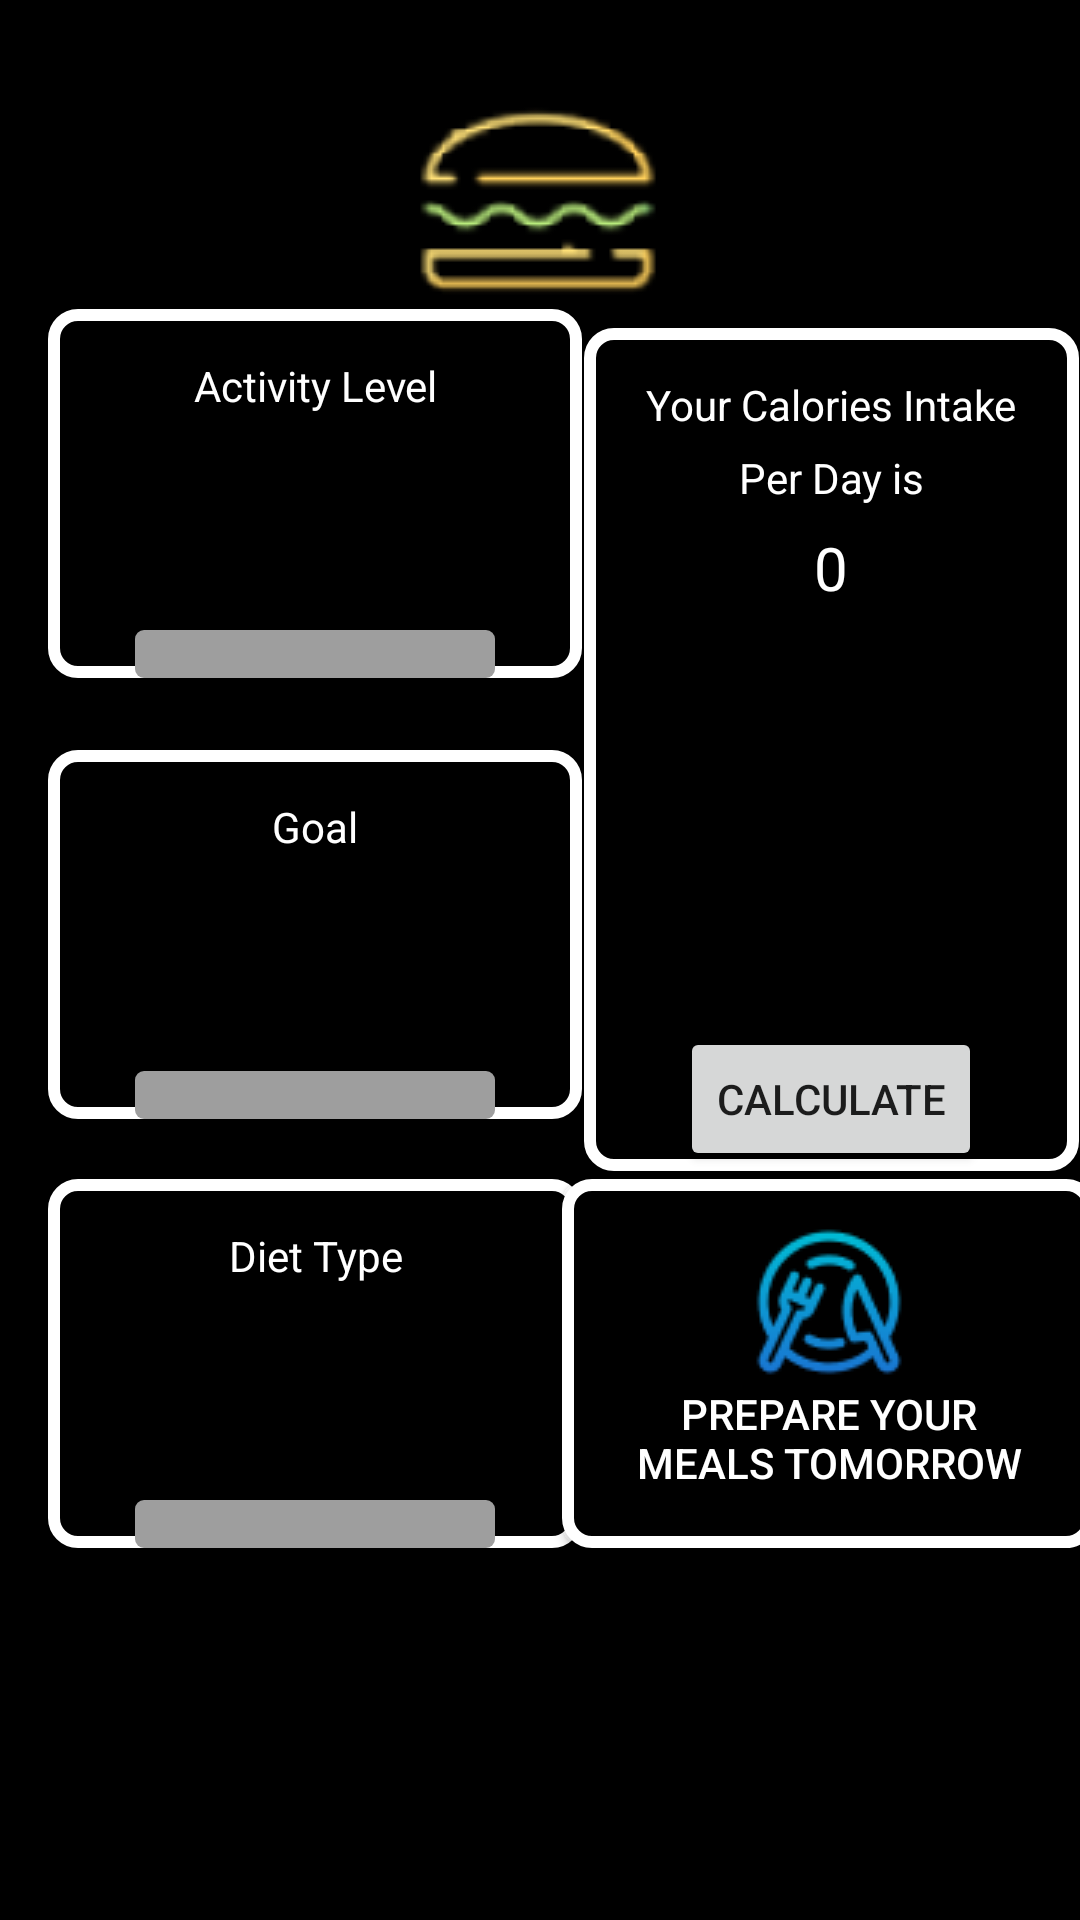

Where icons sit on this 1080px x 1920px app screen, as (x1, y1, x2, y2):
food: (420, 111, 656, 291)
